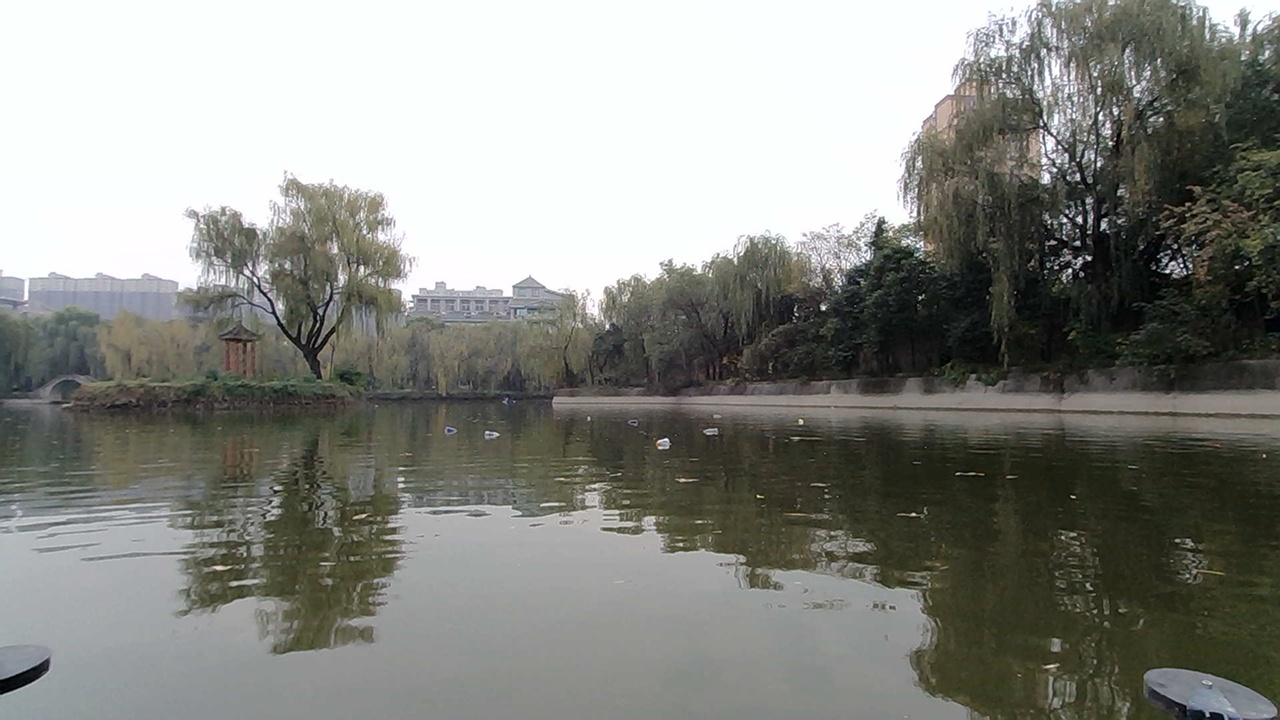bottle: (435, 411, 466, 447), (620, 405, 653, 431), (784, 408, 813, 435), (698, 417, 727, 443), (573, 408, 603, 431), (480, 419, 505, 444), (653, 432, 680, 452)
